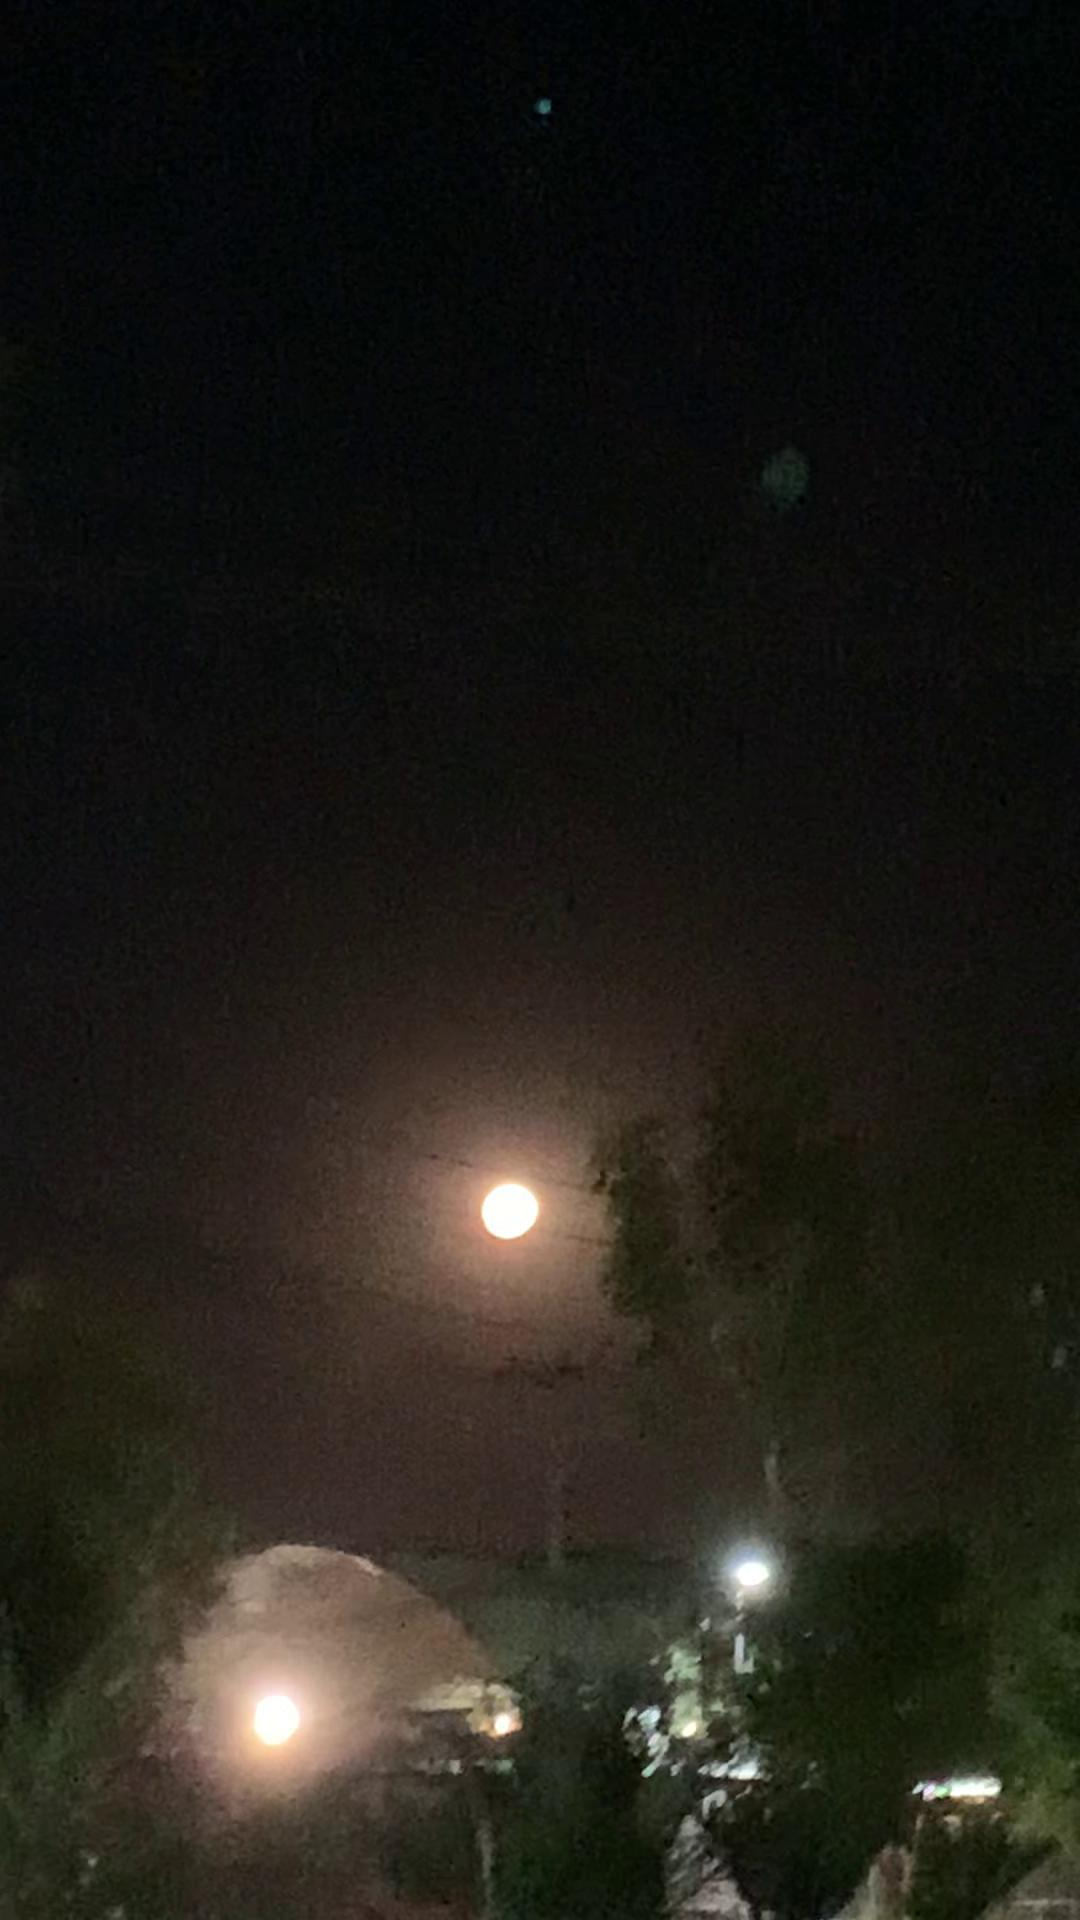moon: (465, 1184, 537, 1255)
